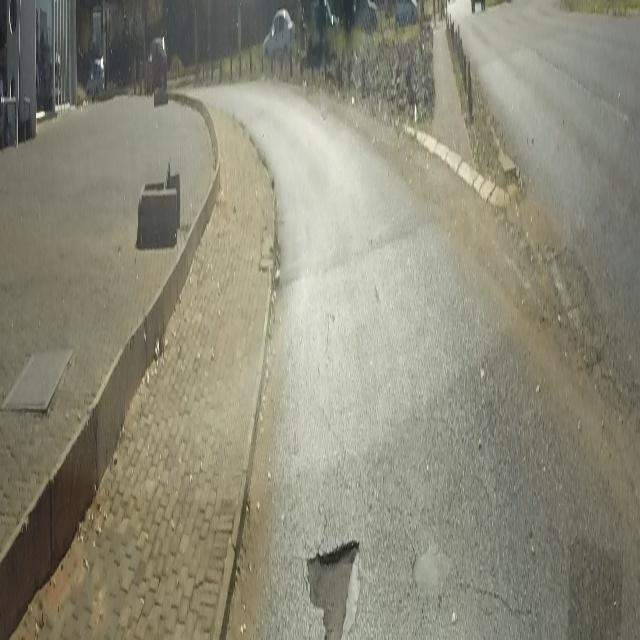pothole: (302, 534, 360, 640)
